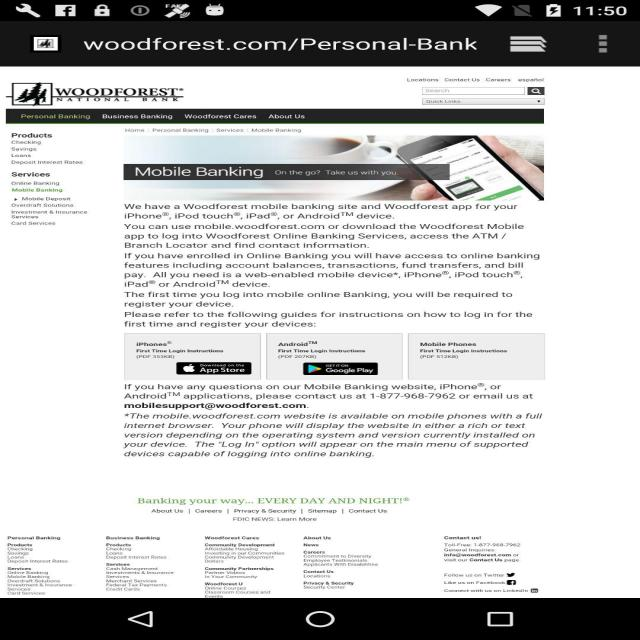image: (124, 132, 543, 206)
text: (5, 79, 609, 474)
